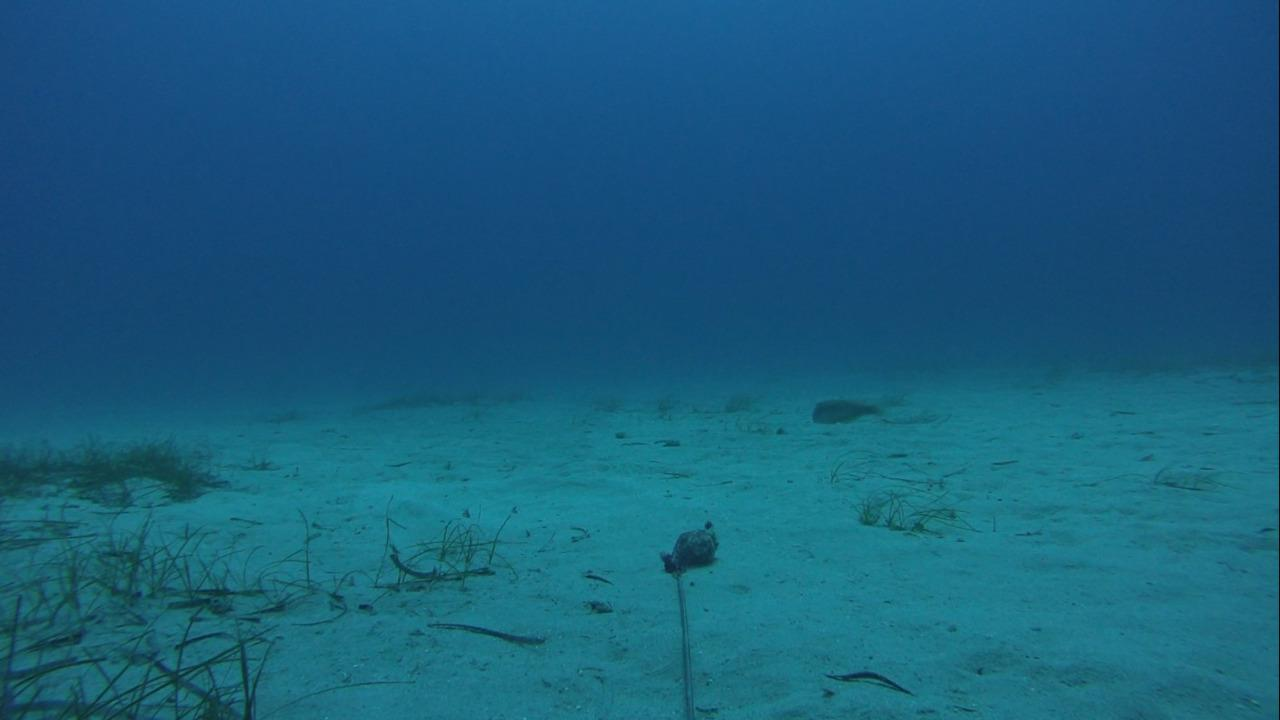raor: (803, 393, 881, 427)
